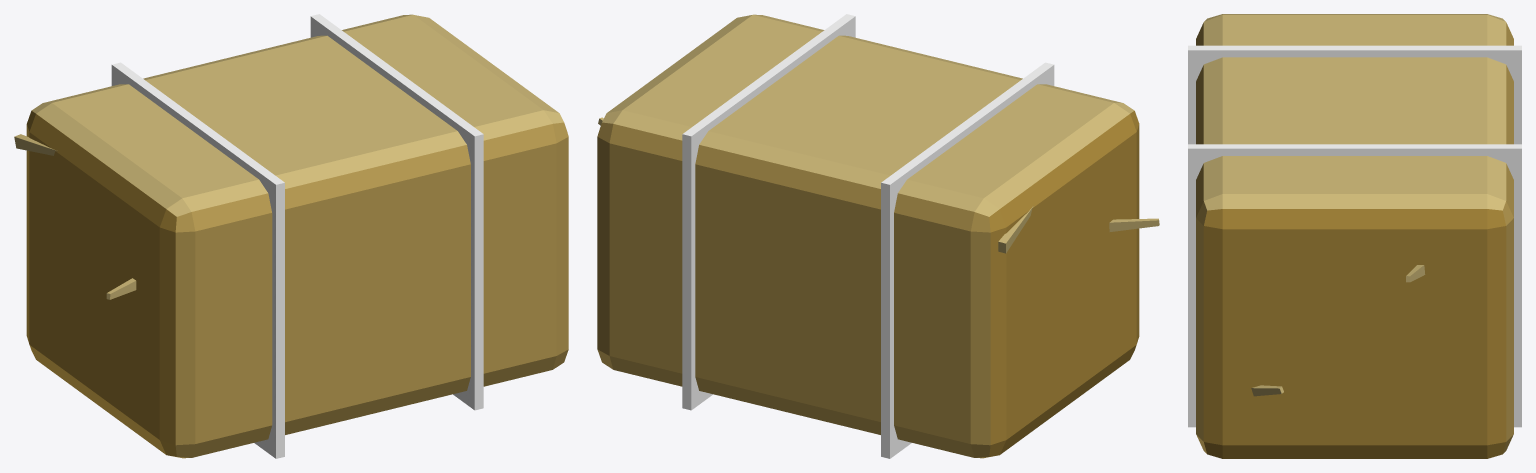
Rendered from bale_square.glb.
The picture shows the model from 3 angles, left to right: view 1: azimuth 30°, elevation 25°; view 2: azimuth 150°, elevation 25°; view 3: azimuth 270°, elevation 25°; orthographic projection.
Visible parts, largest first — view 1: HayBaleSquare; view 2: HayBaleSquare; view 3: HayBaleSquare.
Boxes of the visible parts, x1,y1,x2,y2 form: HayBaleSquare: (14,14,568,458); HayBaleSquare: (597,14,1159,458); HayBaleSquare: (1188,14,1521,458).
Bounding box in the file's own units: 1.07 × 0.58 × 0.63.
